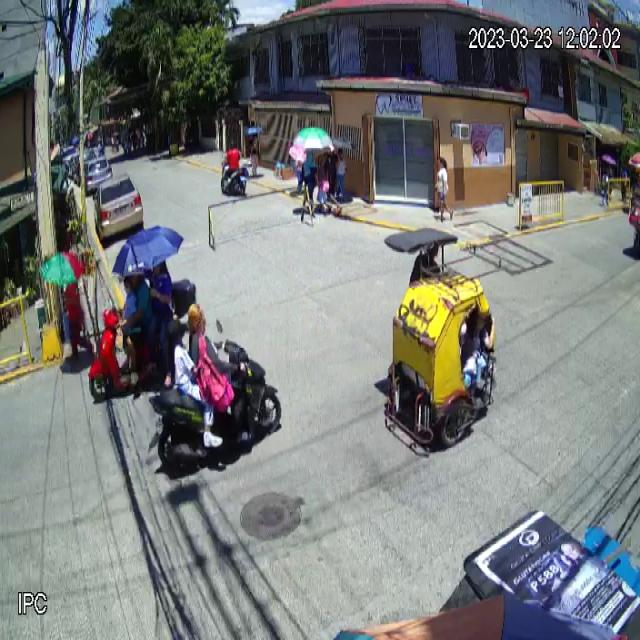Car: (92, 170, 144, 248)
Motorcycle: (152, 317, 282, 472)
Tricycle: (384, 226, 499, 453)
